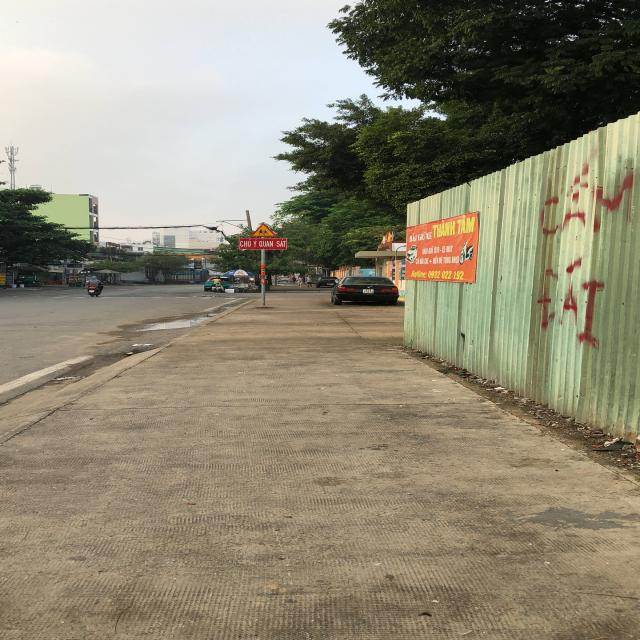Bien bao tre em: (250, 222, 278, 237)
